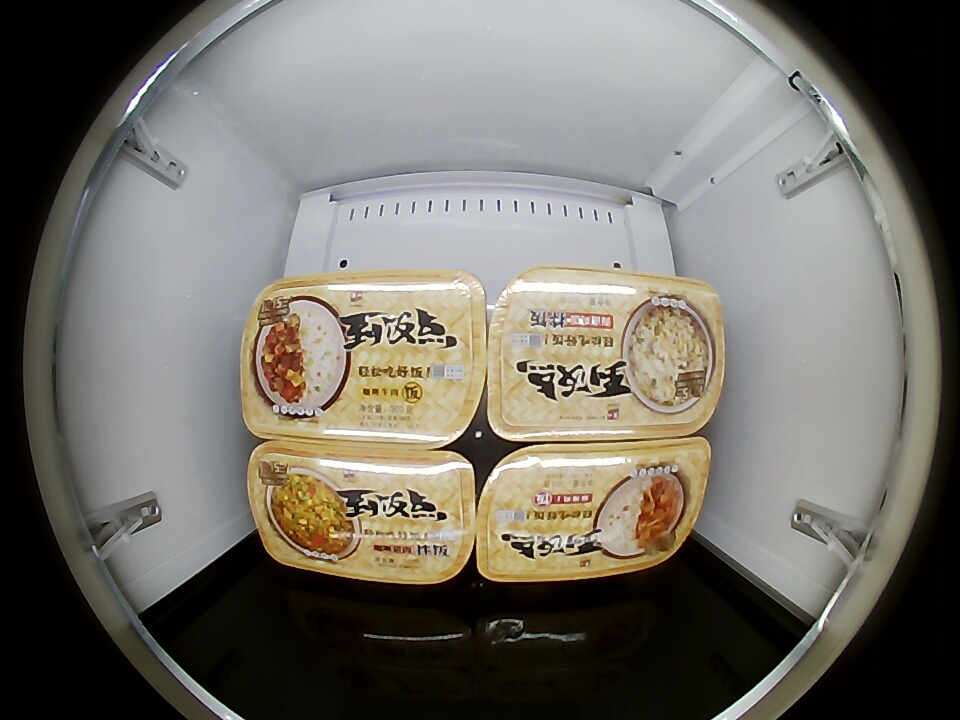daofandian1: (486, 266, 727, 440)
daofandian2: (238, 271, 489, 447)
daofandian3: (246, 442, 479, 585)
daofandian4: (475, 439, 712, 584)
